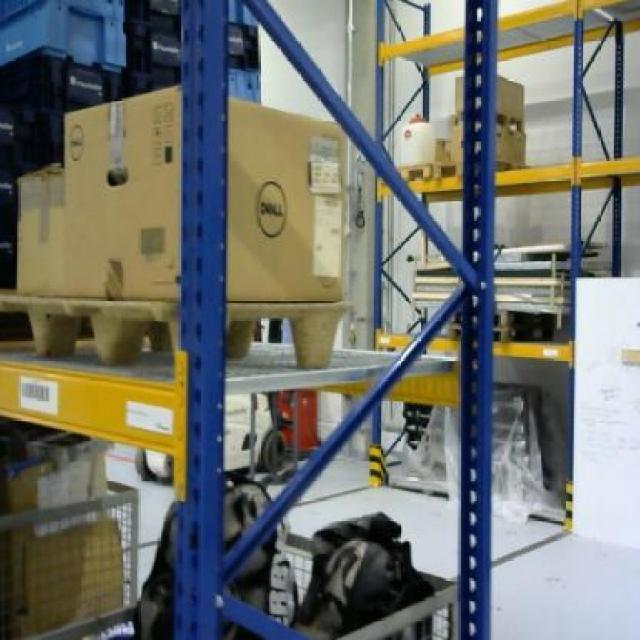box: (61, 84, 347, 298), (17, 168, 65, 294)
